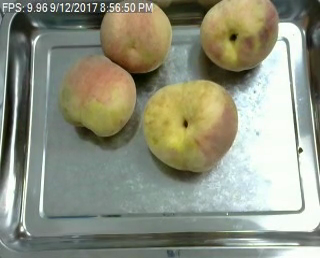Peach: (142, 81, 238, 173), (58, 54, 136, 136), (198, 0, 279, 71), (99, 0, 173, 72)
